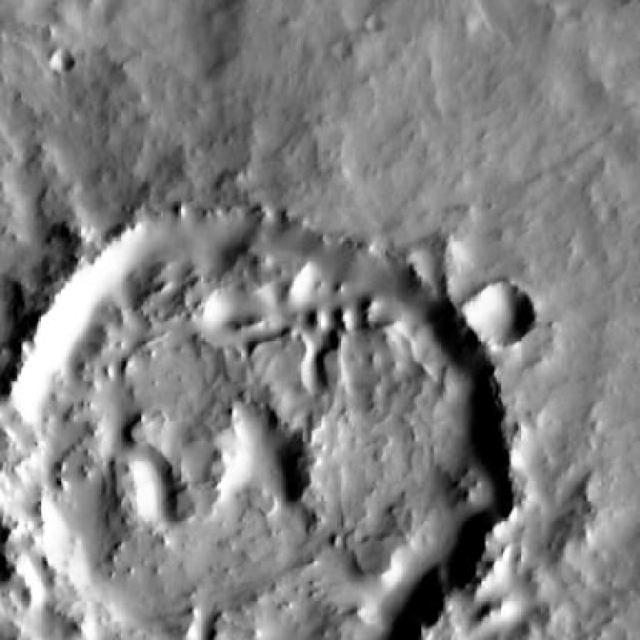crater: (0, 206, 502, 640), (462, 281, 532, 348), (49, 48, 72, 70)
